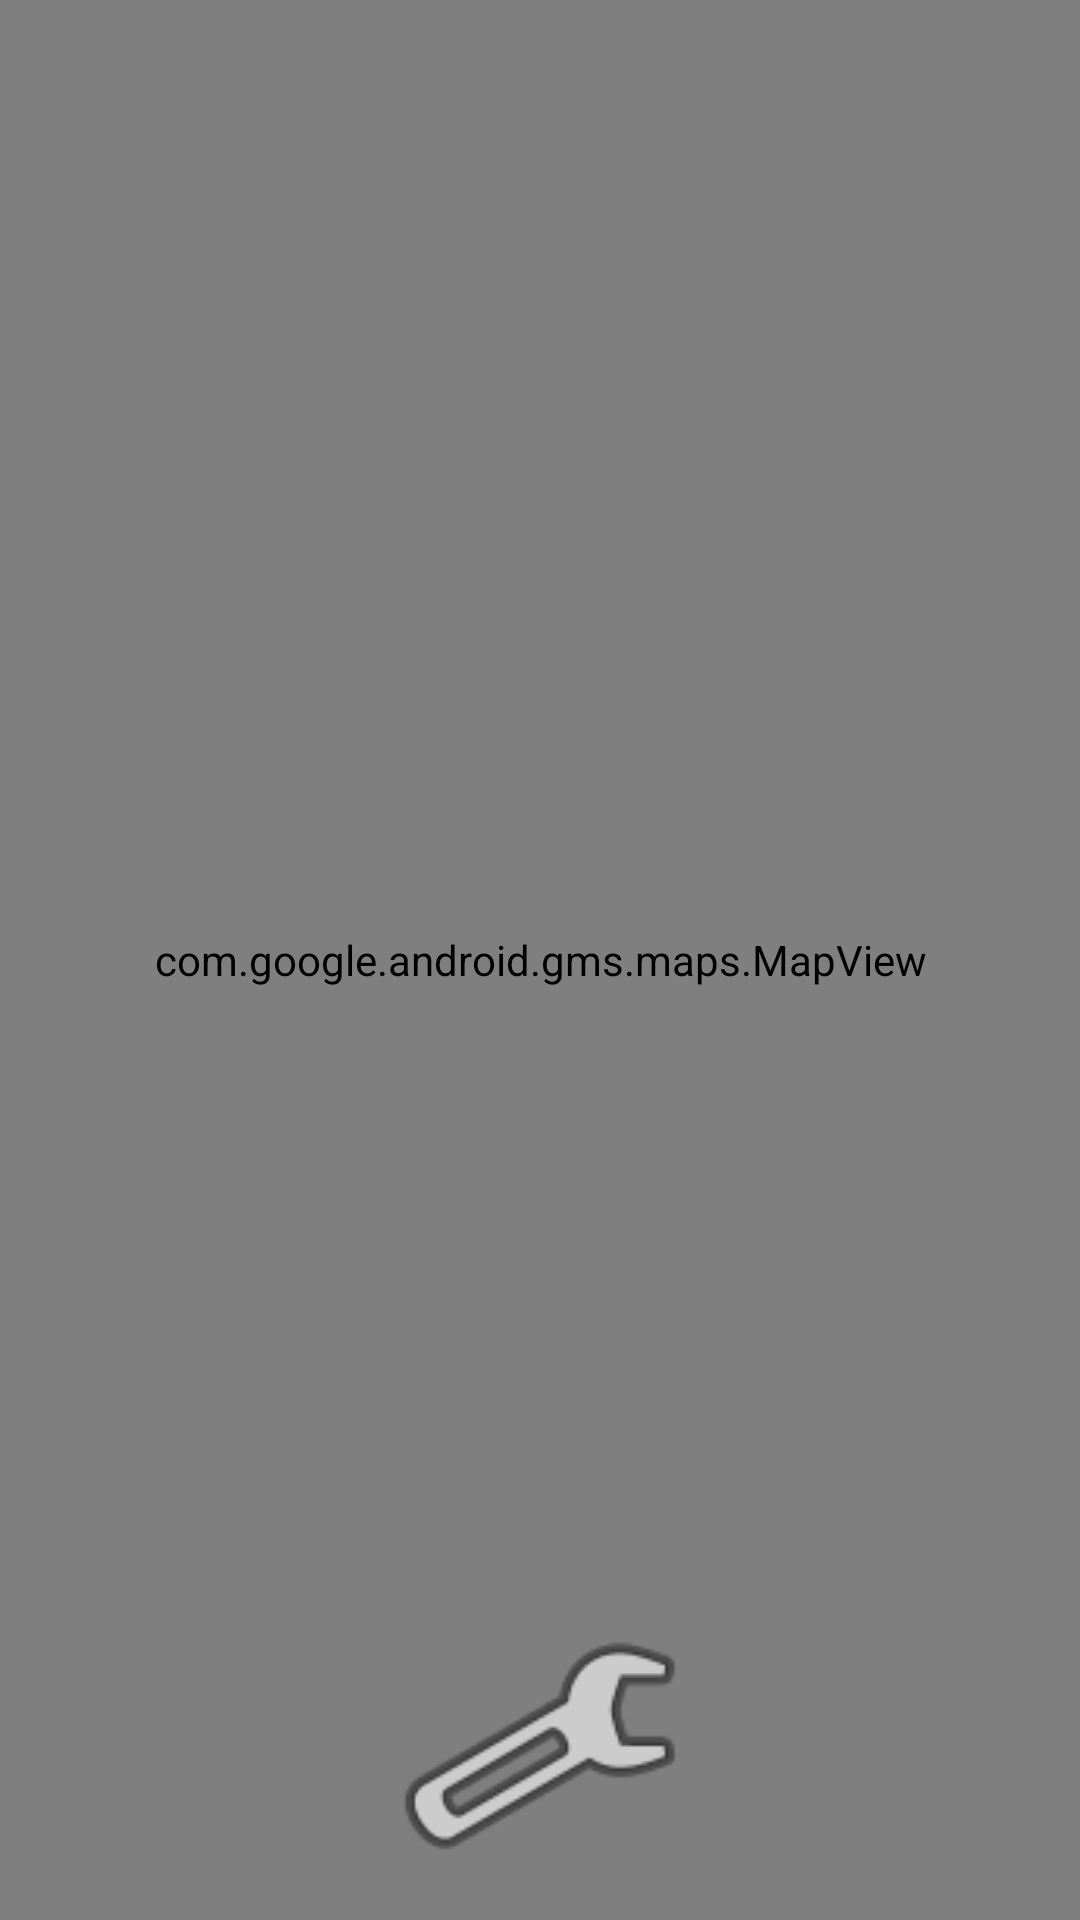

Named icons in this screenshot (1080w x 1920h) and their bounding boxes, (x1, y1, x2, y2):
manage: (405, 1644, 675, 1848)
